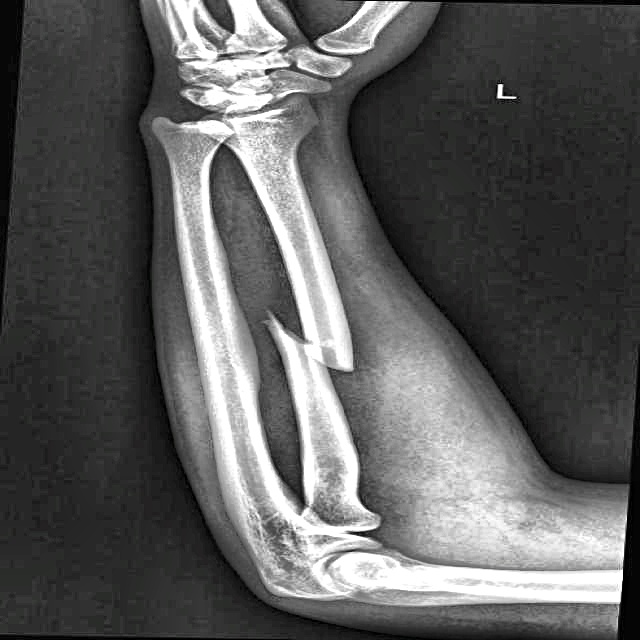Oblique: (252, 301, 384, 391)
